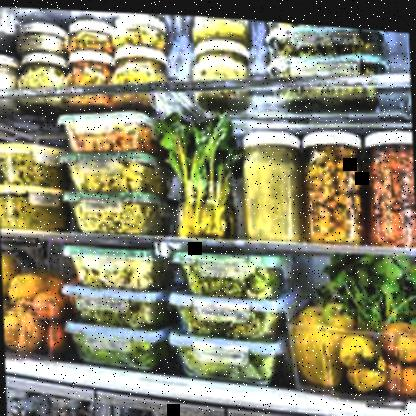orange: (3, 308, 47, 356), (9, 272, 43, 307), (2, 255, 20, 301)
parsley: (159, 108, 241, 176)
yellow_bell_pepper: (295, 298, 344, 382), (344, 327, 388, 384), (384, 315, 415, 359), (386, 352, 415, 394)
